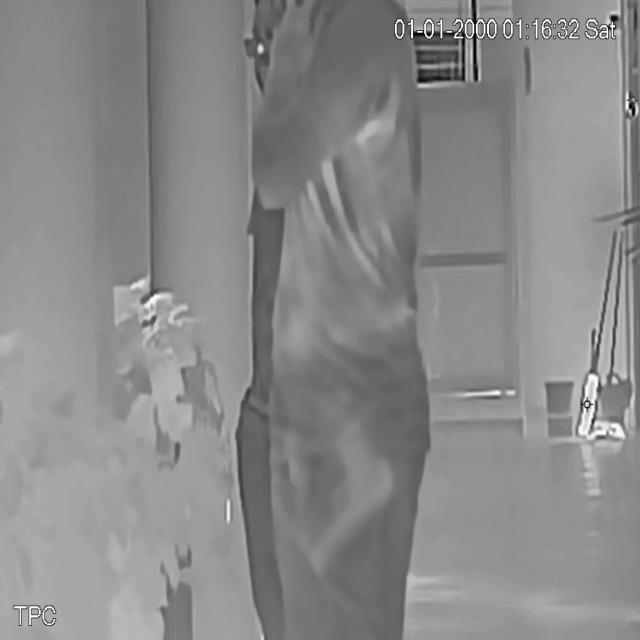Weapon: (304, 420, 400, 597)
